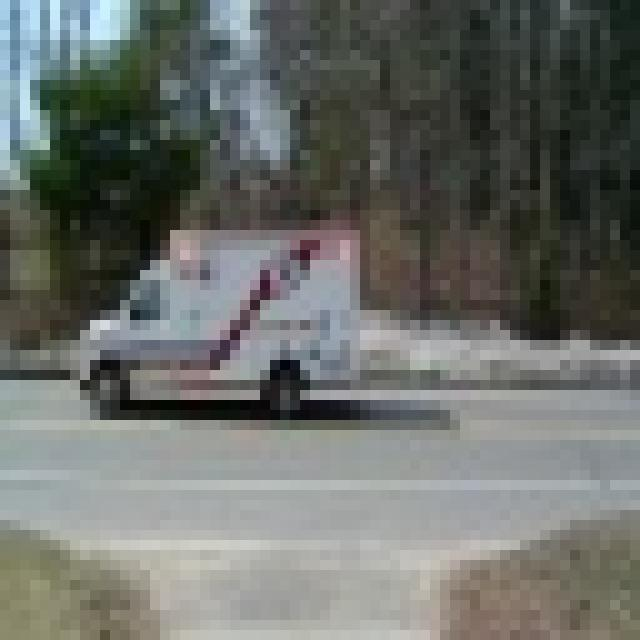Ambulance: (70, 210, 360, 410)
